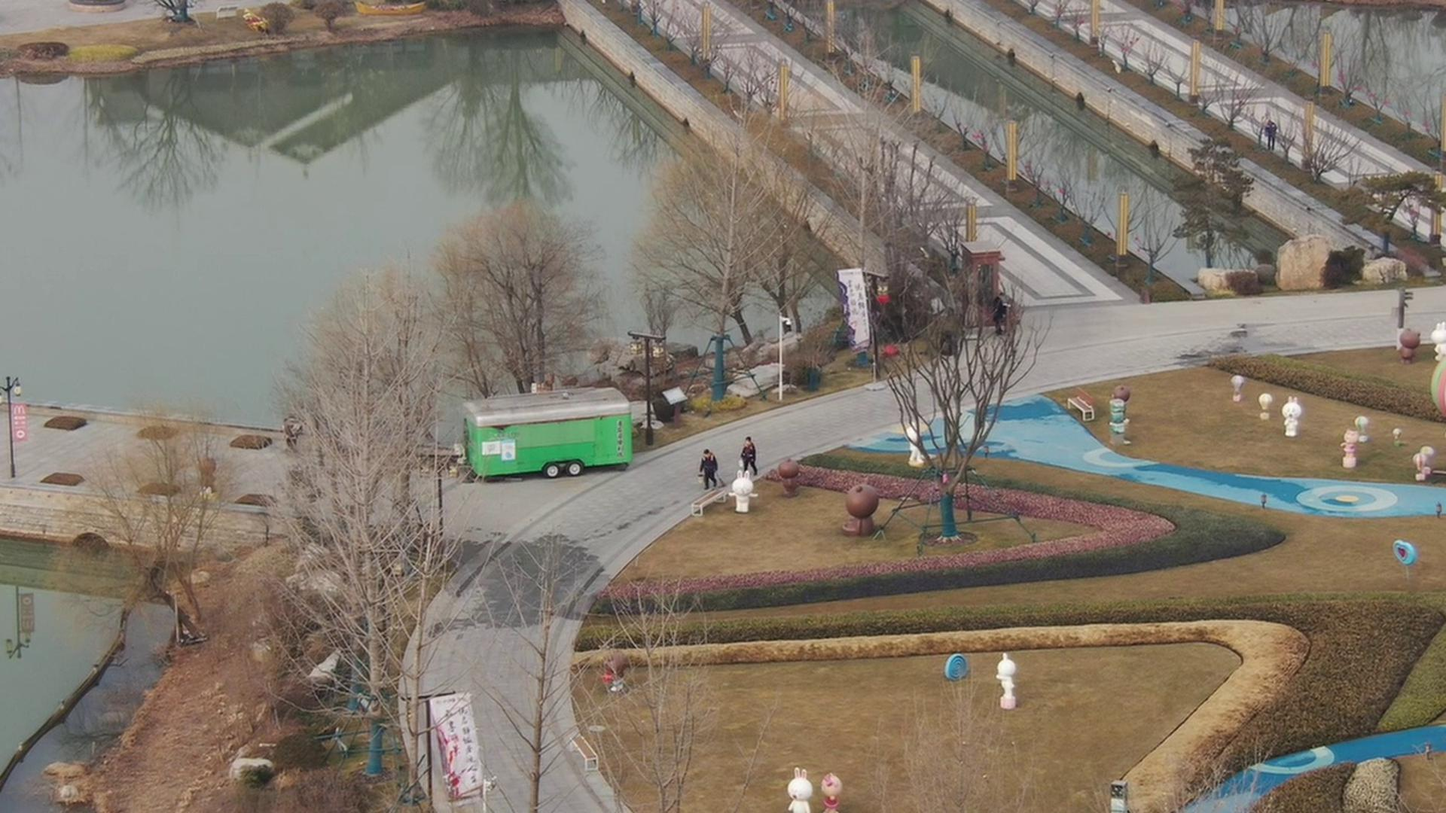human: (729, 434, 759, 474), (689, 445, 716, 489)
